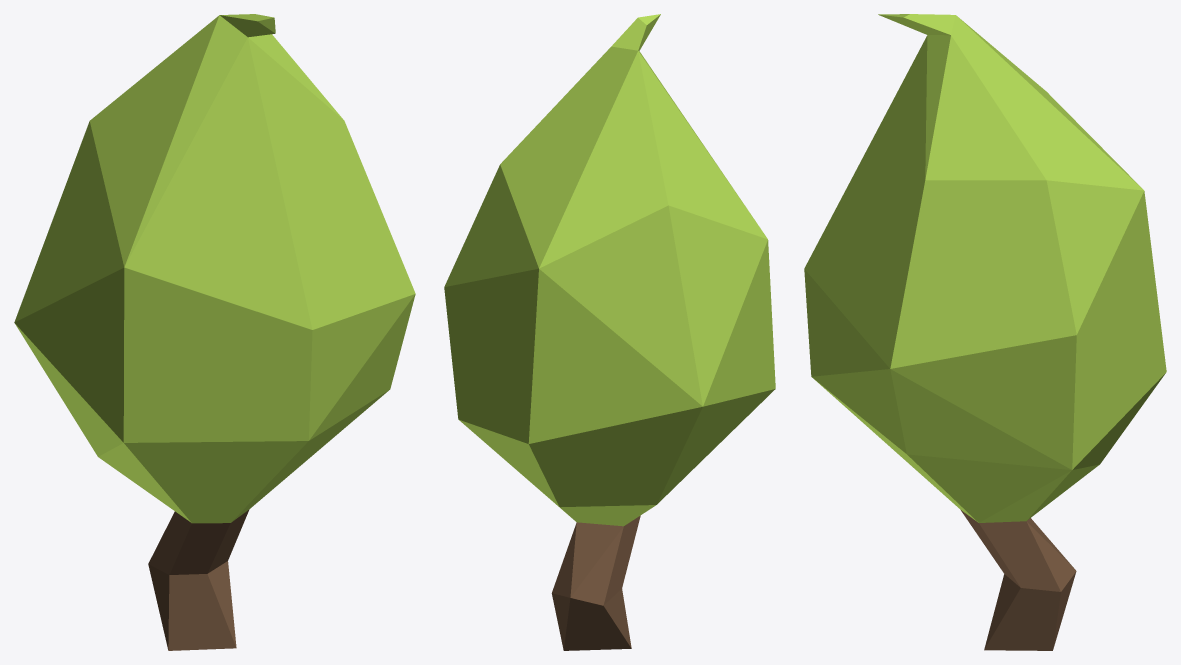
File: Árvorezinha 3.fbx
The picture shows the model from 3 angles, left to right: view 1: azimuth 30°, elevation 25°; view 2: azimuth 150°, elevation 25°; view 3: azimuth 270°, elevation 25°; orthographic projection. The views are drawn at different scales.
Visible parts, largest first — view 1: Árvorezinha 2; view 2: Árvorezinha 2; view 3: Árvorezinha 2.
Part boxes in pixels (left/top/right/bottom): Árvorezinha 2: left=14, top=14, right=415, bottom=650; Árvorezinha 2: left=444, top=14, right=775, bottom=650; Árvorezinha 2: left=804, top=14, right=1166, bottom=650.
Bounding box in the file's own units: 846 × 1779 × 926.
